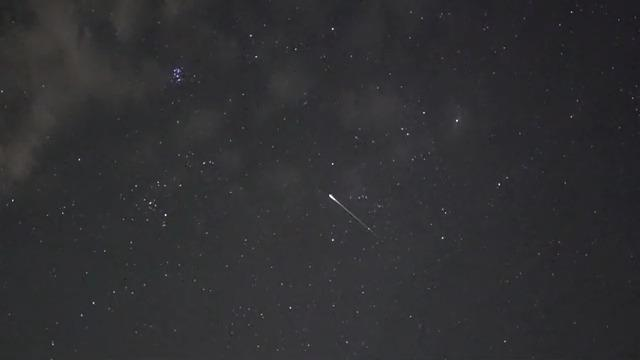meteorite: (313, 191, 392, 236)
